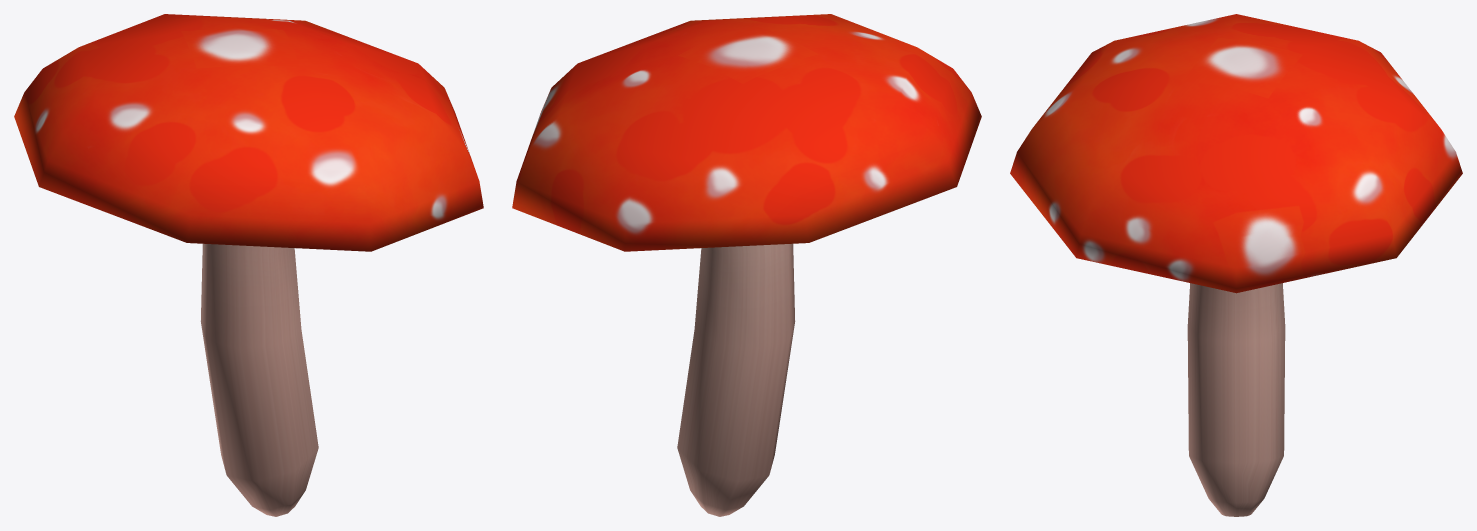
File: mushroom02.fbx
3 views of the same model, side by side, from view 1: azimuth 30°, elevation 25°; view 2: azimuth 150°, elevation 25°; view 3: azimuth 270°, elevation 25° (orthographic). The views are drawn at different scales.
Visible parts, largest first — view 1: mushroom02; view 2: mushroom02; view 3: mushroom02.
Part boxes in pixels (x1,y1,x2,y2): mushroom02: (14, 14, 483, 516); mushroom02: (512, 14, 981, 516); mushroom02: (1010, 14, 1462, 516).
Size of the model in its own units: 97.17 by 105 by 97.88.
